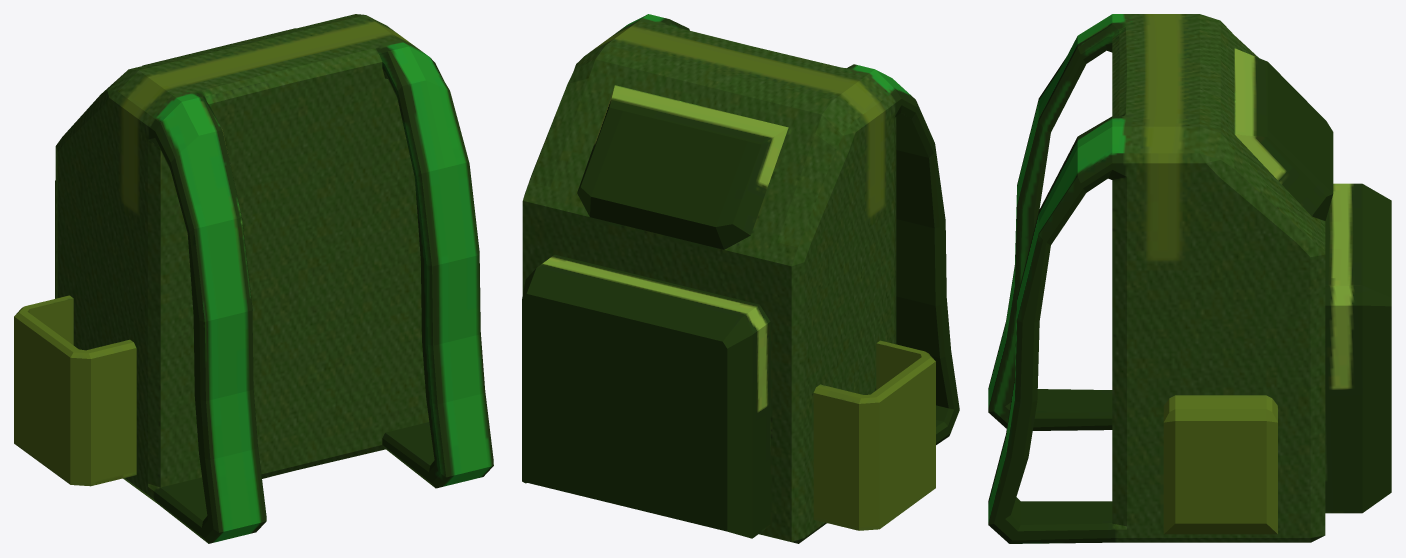
Rendered from BagClosedGreen.fbx.
3 views of the same model, side by side, from view 1: azimuth 30°, elevation 25°; view 2: azimuth 150°, elevation 25°; view 3: azimuth 270°, elevation 25° (orthographic).
Parts seen in each view (by area): view 1: backpack shield; view 2: backpack shield; view 3: backpack shield.
Part boxes in pixels (<box>): backpack shield: <box>14,14,493,543</box>; backpack shield: <box>522,14,959,543</box>; backpack shield: <box>988,14,1391,543</box>.
Size of the model in its own units: 915 by 962 by 867.
